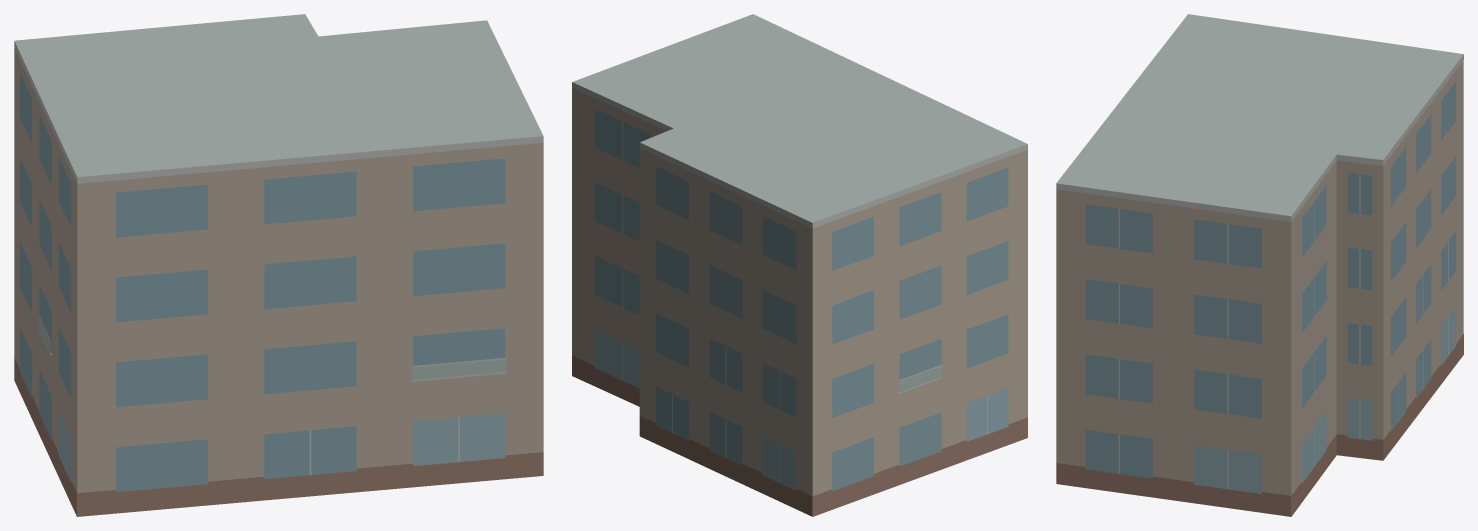
The model's file is survey-upis-32984306.glb.
The picture shows the model from 3 angles, left to right: view 1: azimuth 30°, elevation 25°; view 2: azimuth 150°, elevation 25°; view 3: azimuth 270°, elevation 25°; orthographic projection. The views are drawn at different scales.
Visible parts, largest first — view 1: survey-upis-32984306.tmp; view 2: survey-upis-32984306.tmp; view 3: survey-upis-32984306.tmp.
Boxes of the visible parts, x1=… form: survey-upis-32984306.tmp: x1=14, y1=14, x2=543, y2=516; survey-upis-32984306.tmp: x1=572, y1=14, x2=1027, y2=516; survey-upis-32984306.tmp: x1=1056, y1=14, x2=1463, y2=516.
Bounding box in the file's own units: 18.12 × 12.55 × 15.43.
